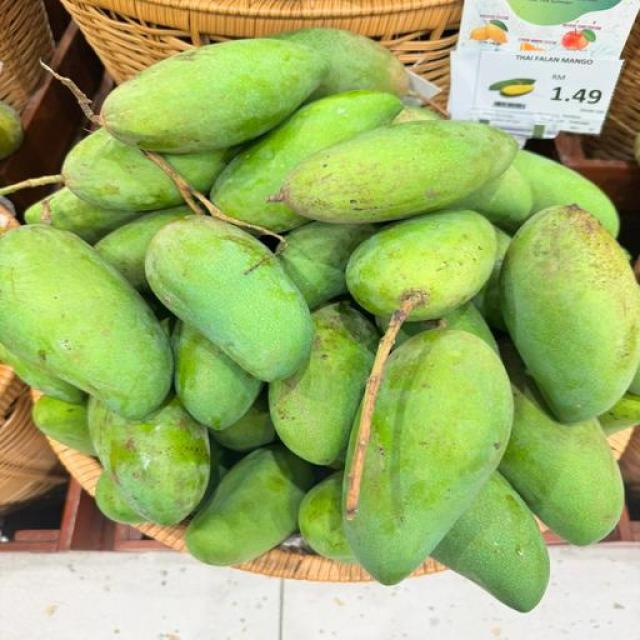organic: (345, 330, 512, 583), (0, 225, 172, 418), (500, 207, 639, 422), (145, 217, 312, 381), (212, 92, 402, 231), (102, 39, 327, 153), (500, 347, 623, 544), (282, 120, 517, 222), (269, 303, 378, 466), (347, 210, 496, 321), (432, 472, 549, 612), (185, 445, 313, 566), (89, 399, 209, 524), (457, 152, 619, 236), (62, 129, 182, 211), (173, 322, 262, 431), (273, 28, 408, 99), (514, 152, 619, 236), (279, 222, 376, 309), (95, 205, 192, 292), (24, 188, 138, 243), (299, 472, 356, 563), (457, 165, 533, 232), (395, 303, 497, 352), (0, 344, 84, 403), (473, 228, 511, 331), (33, 395, 96, 454), (212, 394, 276, 452), (194, 432, 238, 513), (509, 0, 617, 26), (95, 472, 143, 523), (599, 393, 639, 436), (210, 433, 242, 482), (142, 292, 176, 337), (87, 397, 108, 468), (0, 100, 23, 159), (394, 320, 438, 347), (393, 105, 441, 123), (489, 78, 536, 91), (500, 84, 534, 98), (160, 312, 177, 337), (0, 197, 16, 217), (629, 369, 639, 394), (489, 19, 508, 31), (580, 29, 596, 42), (620, 245, 632, 262), (633, 134, 639, 162)
